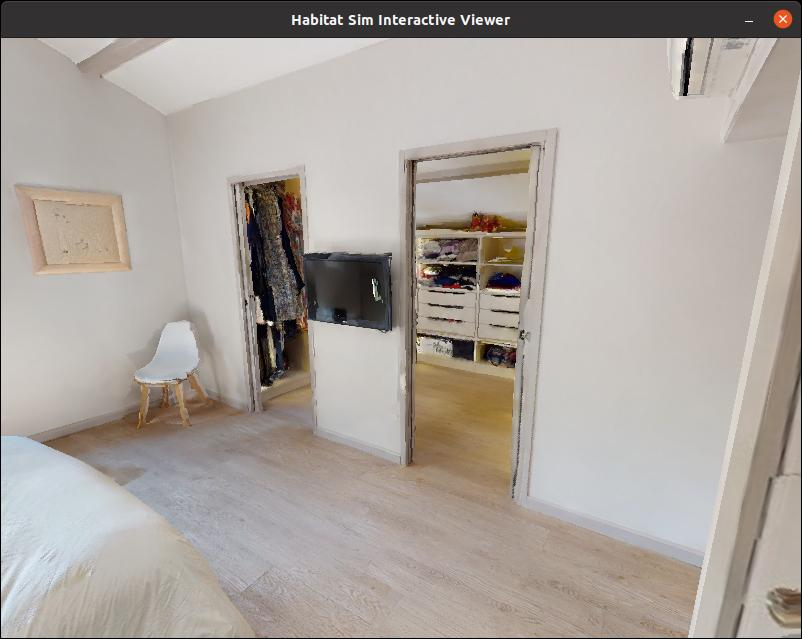chair: (119, 317, 222, 439)
door-frame: (391, 143, 549, 511), (229, 179, 330, 427)
